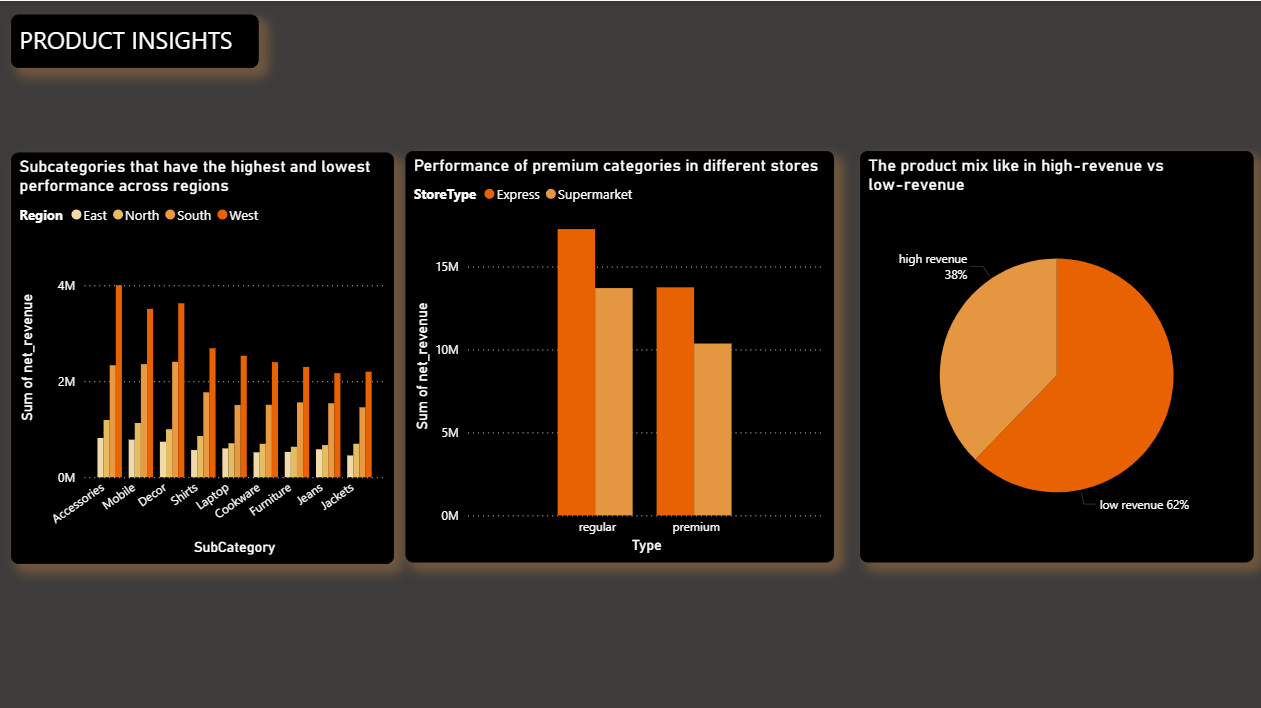

Layout of this report page (visuals, bound fields, positions):
{"tool":"powerbi","page":{"name":"Page 3","canvas":[1280,720],"ordinal":2},"visuals":[{"type":"clusteredColumnChart","title":"Subcategories that have the highest and lowest performance across regions","fields":{"Category":["Products.SubCategory"],"Y":["Sum(Sales.net_revenue)"],"Series":["Stores.Region"]},"box":[12.7,152.7,386.5,415.1],"z":0},{"type":"clusteredColumnChart","title":"Performance of premium categories in different stores","fields":{"Category":["Products.Type"],"Y":["Sum(Sales.net_revenue)"],"Series":["Stores.StoreType"]},"box":[410.4,151.1,432.6,415.1],"z":1000},{"type":"pieChart","title":"The product mix like in high-revenue vs low-revenue","fields":{"Category":["Sales.high or low revenue?"],"Y":["Sum(Sales.net_revenue)"]},"box":[868.5,151.1,397.7,415.1],"z":2000},{"type":"textbox","box":[12.7,14.3,249.7,54.1],"z":3000}]}

Visuals, with their boxes in screenshot pixels (x1, y1, x2, y2), scaled from the page's 1280x720 canvas onto the 1261x708 screenshot:
"Subcategories that have the highest and lowest performance across regions" clusteredColumnChart: [13,150,393,558]
"Performance of premium categories in different stores" clusteredColumnChart: [404,149,830,557]
"The product mix like in high-revenue vs low-revenue" pieChart: [856,149,1247,557]
textbox: [13,14,259,67]
